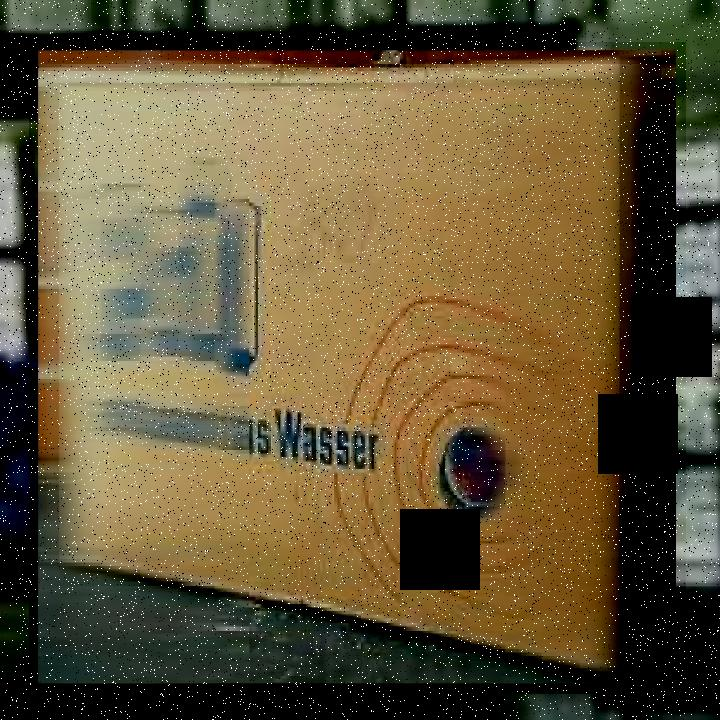box: (29, 42, 686, 694)
